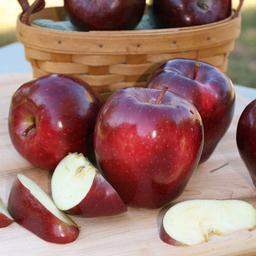apple: (95, 87, 201, 208), (6, 73, 103, 172), (141, 58, 235, 158), (48, 154, 127, 219), (7, 172, 79, 243), (64, 1, 145, 31), (150, 1, 229, 27)
